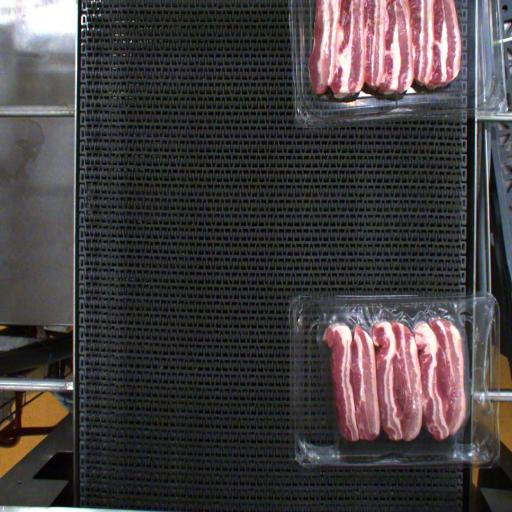unsealed: (304, 297, 496, 382)
